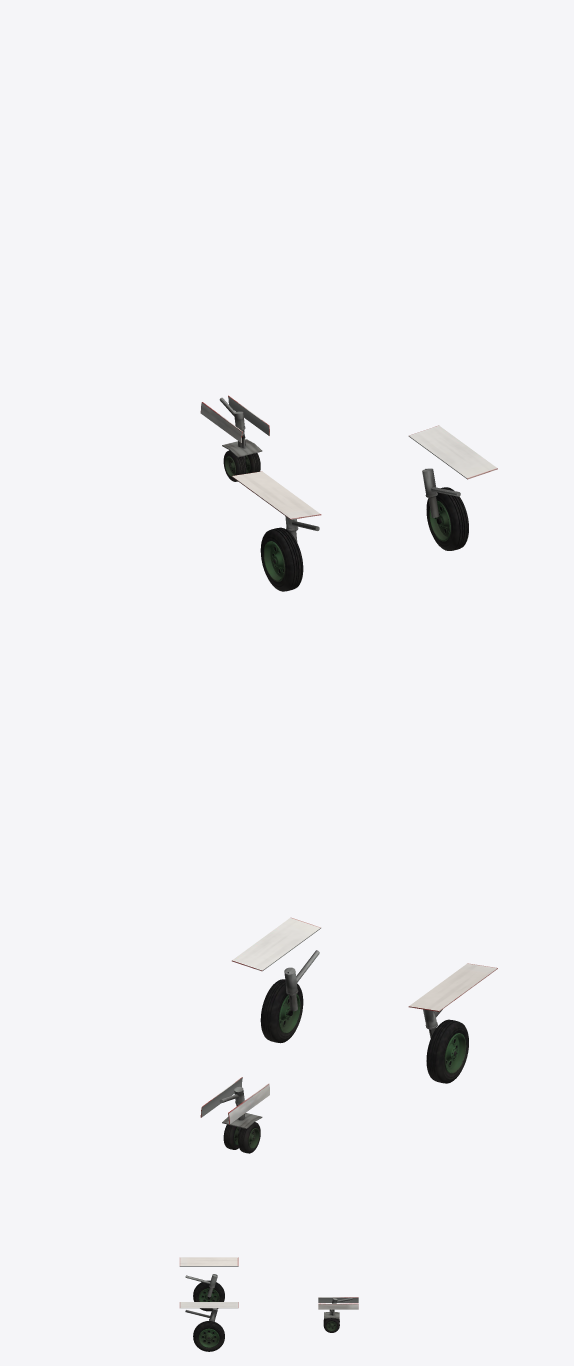
File: e_mig25_gear.glb
The picture shows the model from 3 angles, top to bottom: view 1: azimuth 30°, elevation 25°; view 2: azimuth 150°, elevation 25°; view 3: azimuth 270°, elevation 25°; orthographic projection. The views are drawn at different scales.
Parts seen in each view (by area): view 1: body|MG_paint; view 2: body|MG_paint; view 3: body|MG_paint.
Part boxes in pixels (x1,y1,x2,y2): body|MG_paint: [200, 395, 497, 591]; body|MG_paint: [200, 917, 497, 1153]; body|MG_paint: [179, 1257, 358, 1351].
Size of the model in its own units: 4.88 by 6.68 by 22.25.
1 material, 1 textured.
